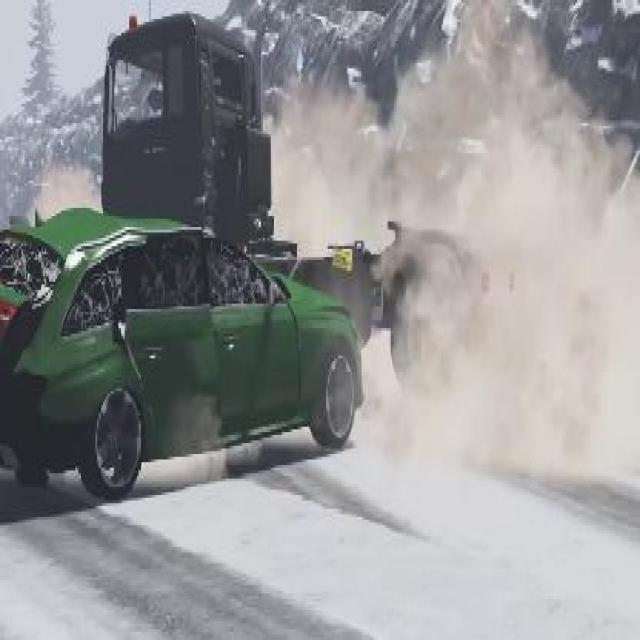accident: (0, 0, 491, 484)
